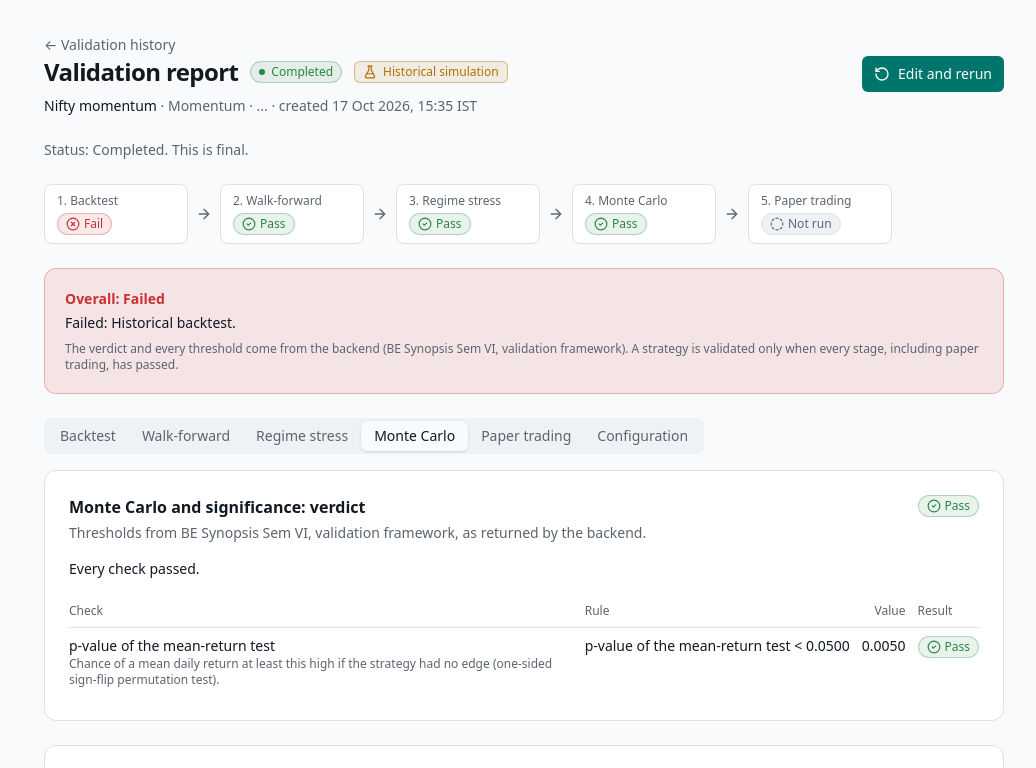
it: ValidationReportPage › the tab lives in the address
The image size is (1036, 768).
Click the button with aria-label "Stage 2, Walk-forward: Pass": (292, 214) [220, 184, 364, 244]
(page scrolled)
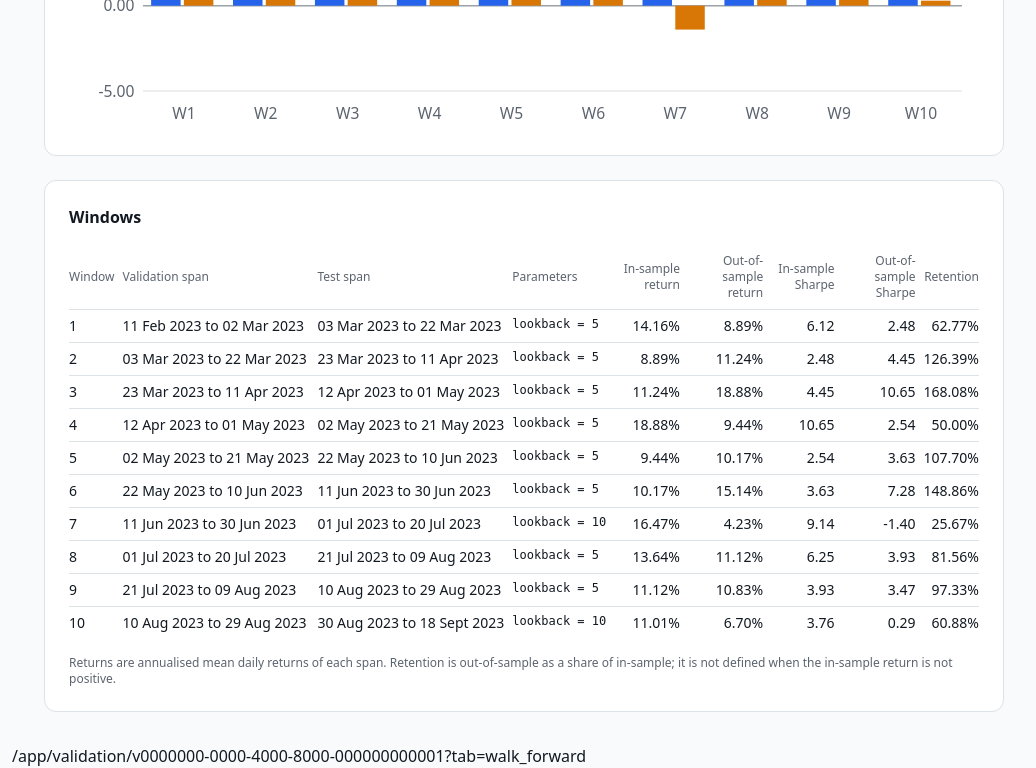
Now the text with test id "where" shows "?tab=walk_forward", box [12, 745, 586, 767]
